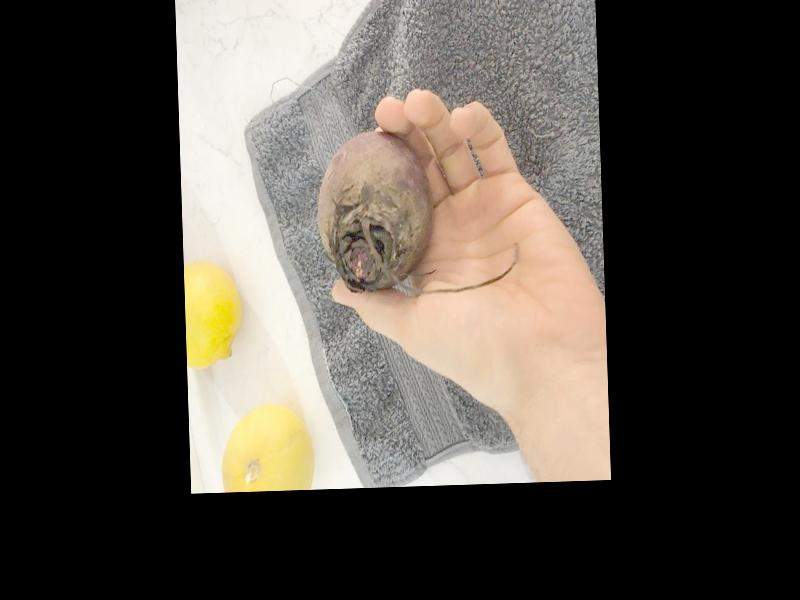Beet: (314, 124, 519, 293)
